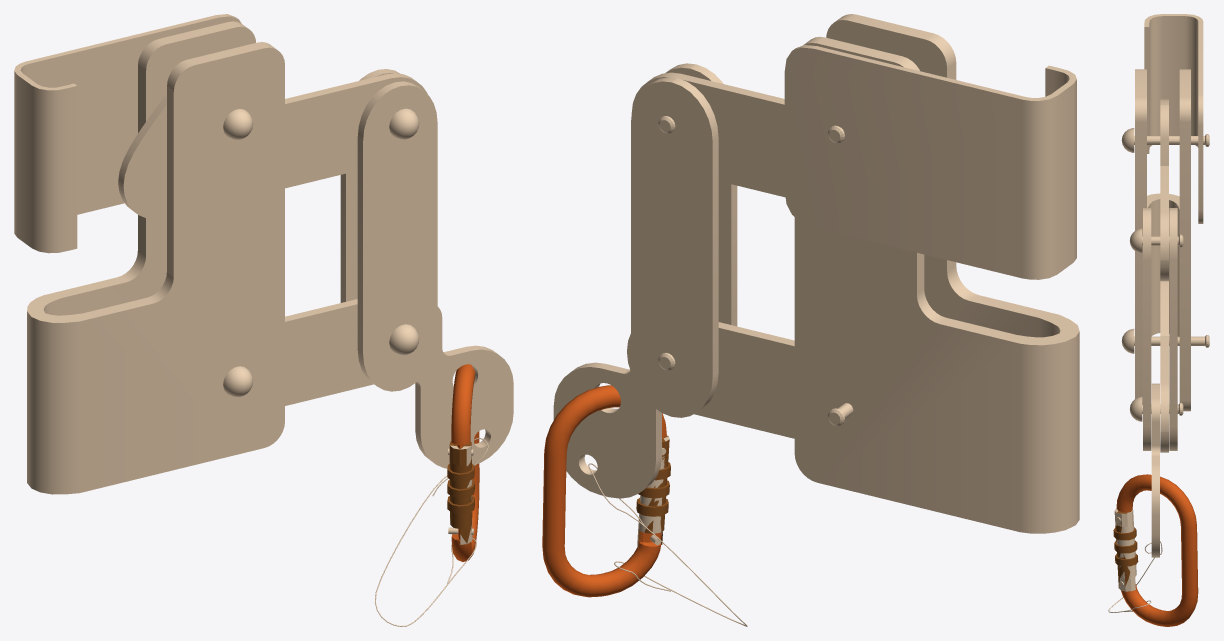
Rendered from SM_Corner_Over_the-roof.FBX.
The picture shows the model from 3 angles, left to right: view 1: azimuth 30°, elevation 25°; view 2: azimuth 150°, elevation 25°; view 3: azimuth 270°, elevation 25°; orthographic projection. The views are drawn at different scales.
Visible parts, largest first — view 1: SM_Corner_Over_the-roof; view 2: SM_Corner_Over_the-roof; view 3: SM_Corner_Over_the-roof.
Boxes of the visible parts, bbox=[...] form: SM_Corner_Over_the-roof: bbox=[14, 14, 513, 626]; SM_Corner_Over_the-roof: bbox=[542, 14, 1079, 626]; SM_Corner_Over_the-roof: bbox=[1108, 14, 1209, 626].
Bounding box in the file's own units: 1025 × 1232 × 242.
